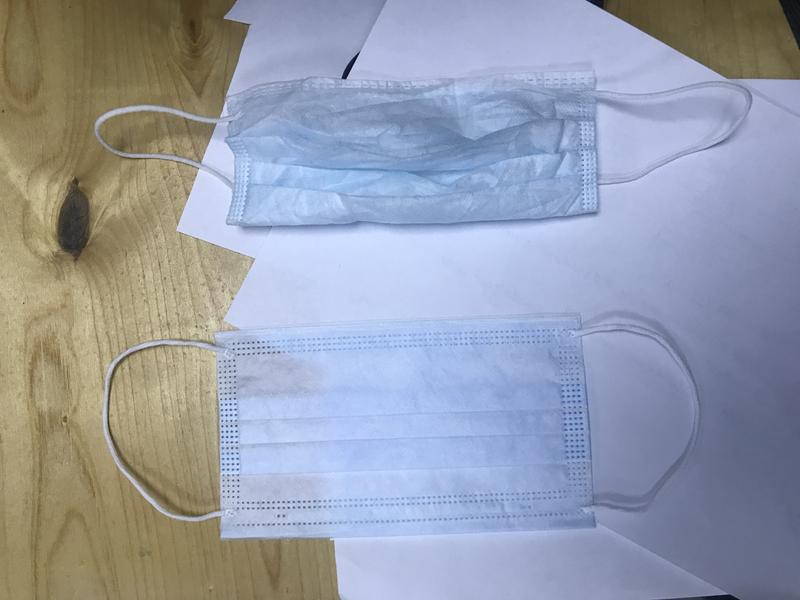medical_mask: (105, 314, 700, 536), (99, 69, 751, 225)
